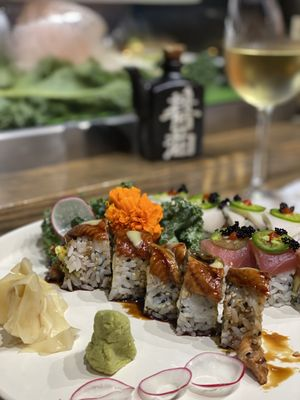curry: (1, 138, 300, 400)
sandwich: (224, 0, 300, 205)
